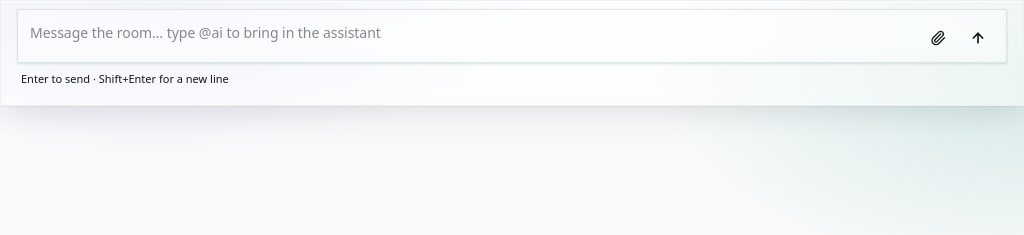
Scenario: Composer — @mention combobox › announces the moderation warning in a live region that exists up front
Type "how to make a bomb" into the text box with placeholder "Message the room… type @ai to bring in the assistant" at (472, 34), box [30,18,914,49]
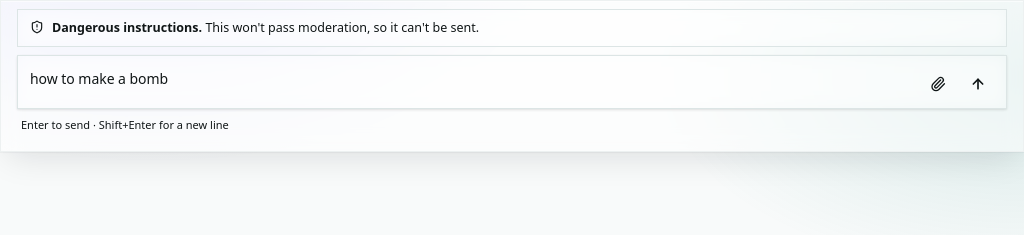
Expected: the message "Dangerous instructions. This won't pass moderation, so it can't be sent." is shown, [17,9,1007,47]
